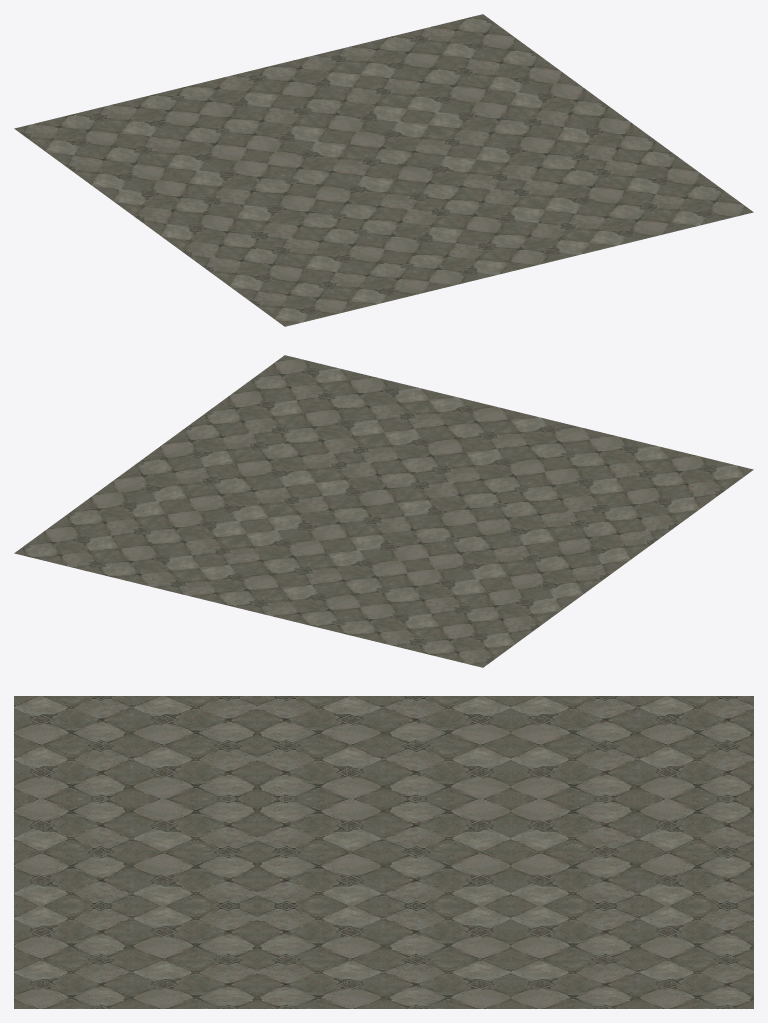
The model's file is Item_3001_wujian002_taizidiban.FBX.
3 views of the same model, one above another, from view 1: azimuth 30°, elevation 25°; view 2: azimuth 150°, elevation 25°; view 3: azimuth 270°, elevation 25° (orthographic). The views are drawn at different scales.
Visible parts, largest first — view 1: Item_3001_wujian002_taizidiban; view 2: Item_3001_wujian002_taizidiban; view 3: Item_3001_wujian002_taizidiban.
Part boxes in pixels (x1,y1,x2,y2): Item_3001_wujian002_taizidiban: [14, 14, 753, 326]; Item_3001_wujian002_taizidiban: [14, 355, 753, 667]; Item_3001_wujian002_taizidiban: [14, 696, 753, 1008].
Size of the model in its own units: 4005 by 2.27e-13 by 4005.
